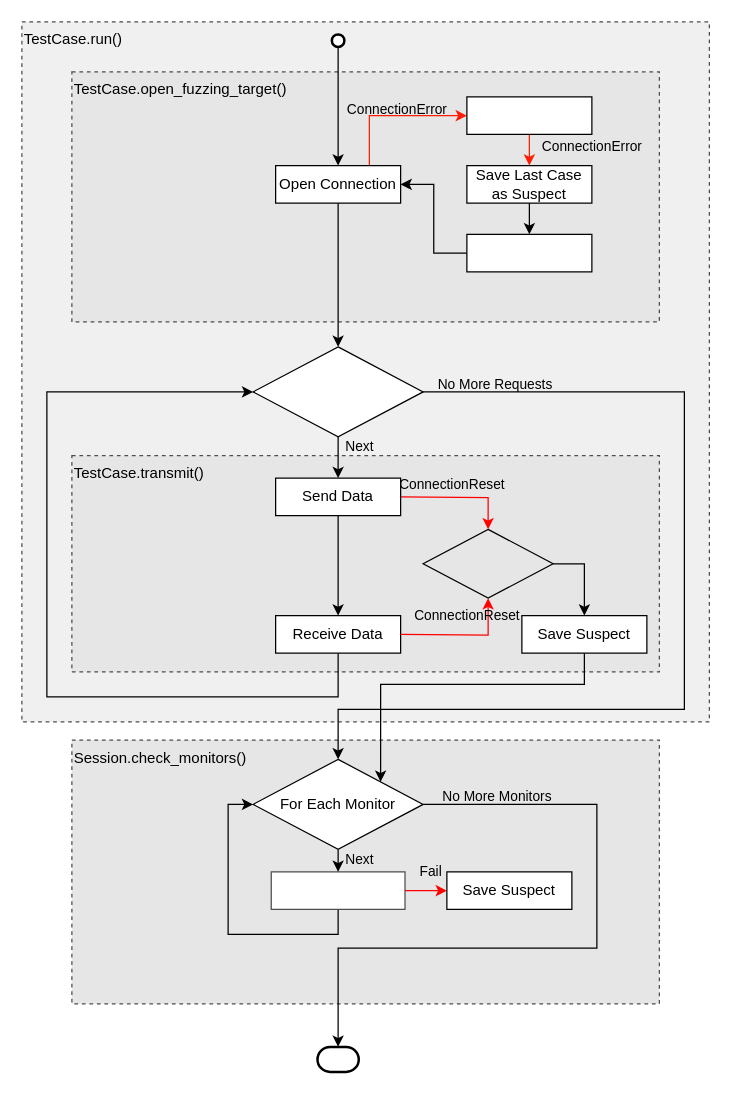
Some shapes in this 731 by 1095 pixel diagram are drawn without their labels. Each missing label, with the centre of its shape:
"For request in path" goes at (x=337, y=391).
"if not ignore_transmission_errors" goes at (x=487, y=563).
"Retry Open Connection" goes at (x=529, y=115).
"Run Monitor" goes at (x=337, y=890).
"Wait Until Target Recovered" goes at (x=529, y=252).
